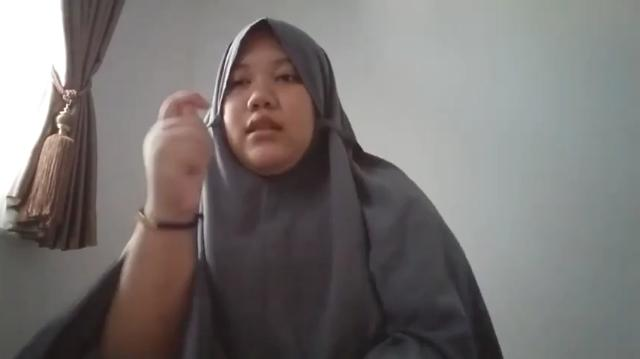T: (140, 91, 213, 211)
